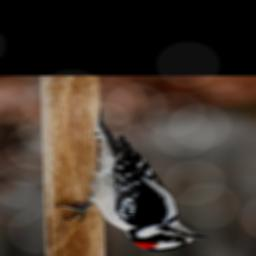Woodpecker: (55, 110, 208, 252)
